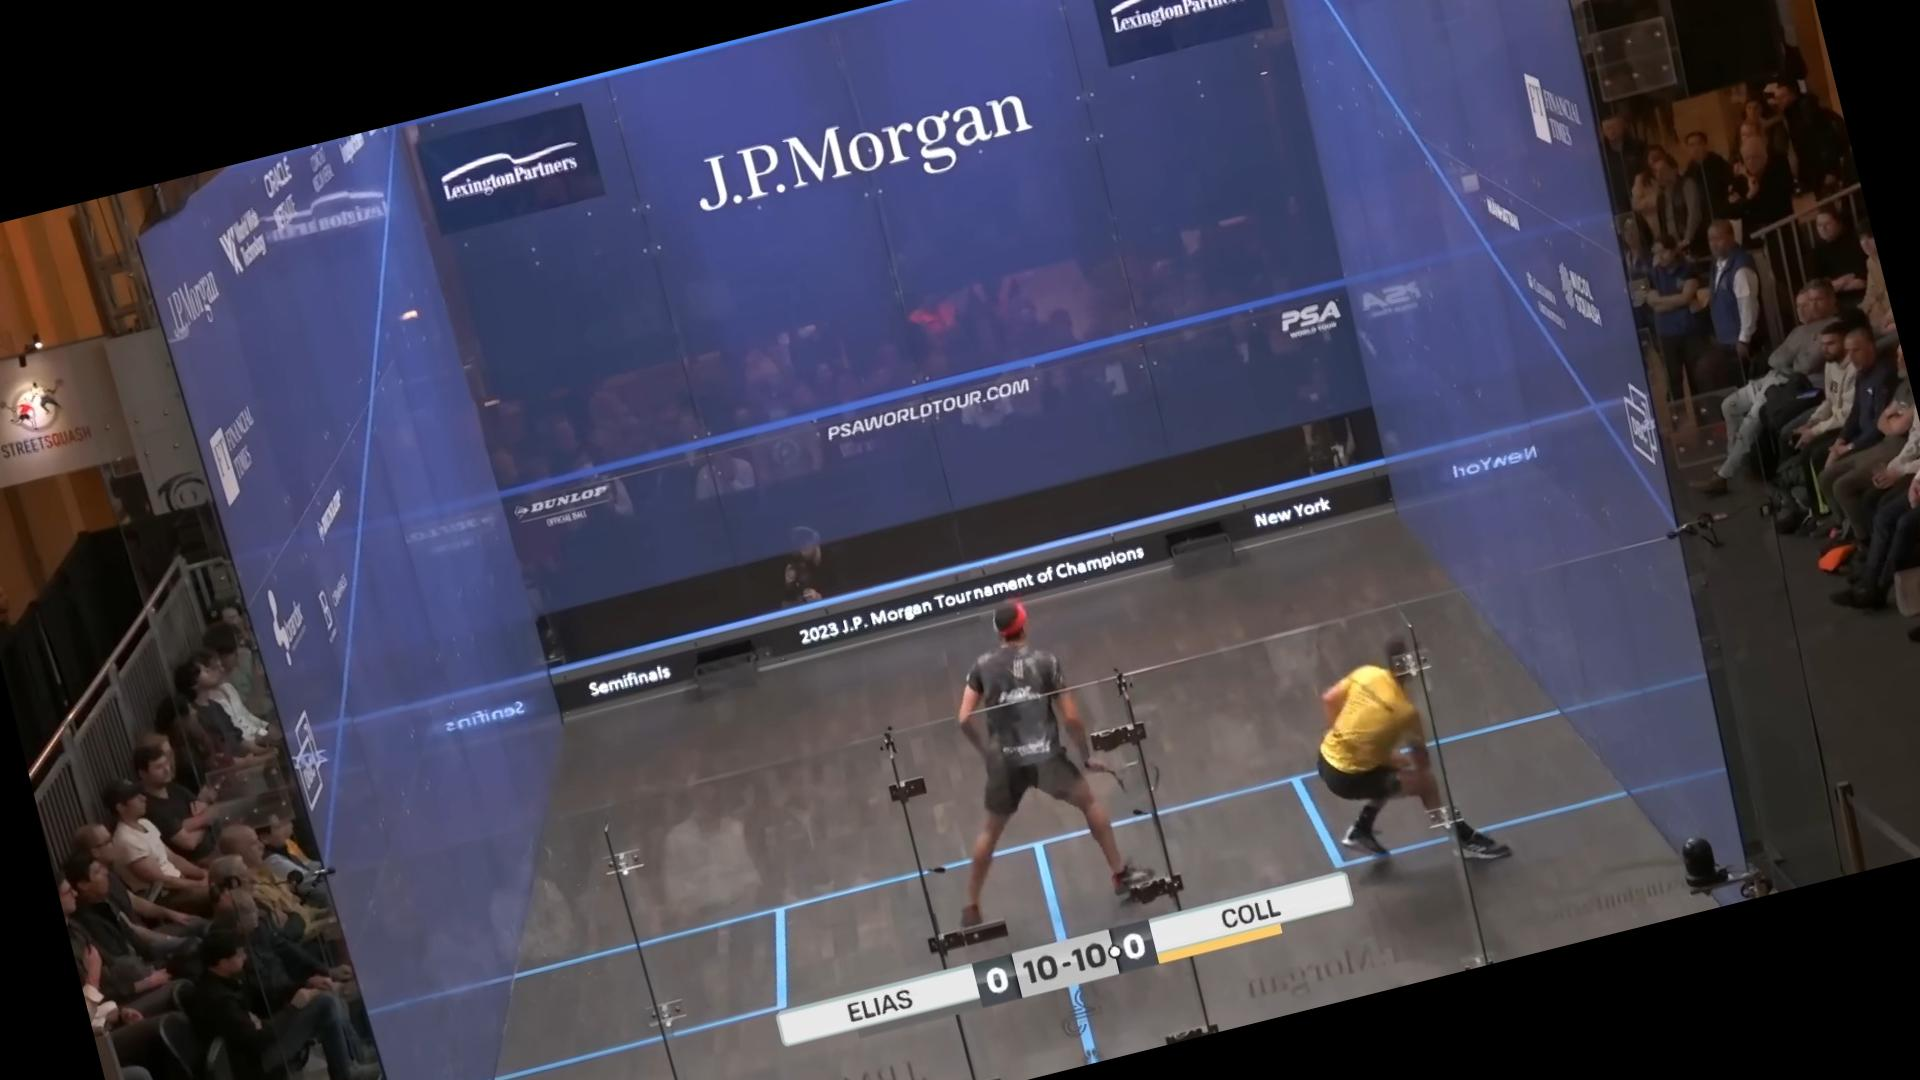Racket: (1095, 748, 1174, 815)
